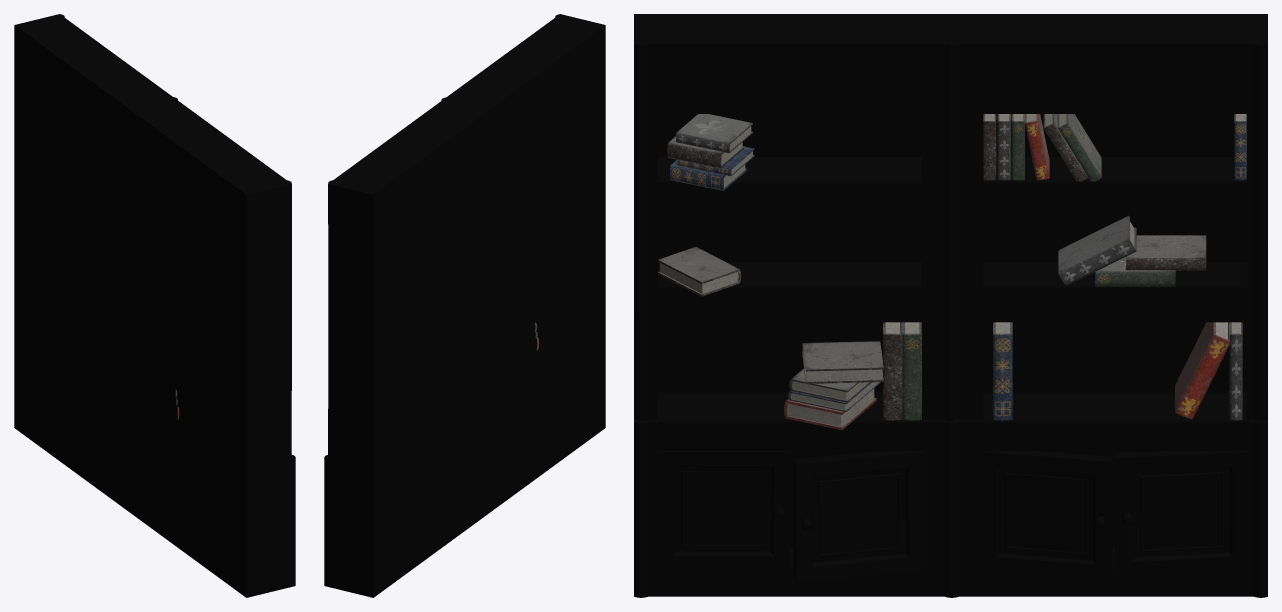
The model's file is Bookshelf_V2.fbx.
3 renders of one model, left to right at view 1: azimuth 30°, elevation 25°; view 2: azimuth 150°, elevation 25°; view 3: azimuth 270°, elevation 25°, orthographic. The views are drawn at different scales.
Parts seen in each view (by area): view 1: group6_polySurface128; view 2: group6_polySurface128; view 3: group6_polySurface128.
Boxes of the visible parts, <box> form: group6_polySurface128: <box>14,14,295,597</box>; group6_polySurface128: <box>324,14,605,597</box>; group6_polySurface128: <box>634,14,1267,597</box>.
Size of the model in its own units: 0.2579 by 1.3 by 1.36.
2 materials, 1 textured.
